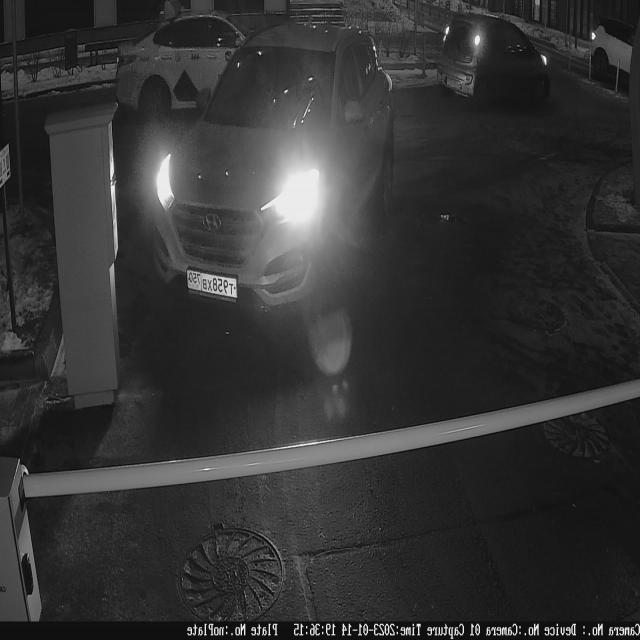car-plate-numbers: (184, 269, 242, 310)
